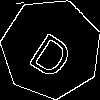D: (26, 23, 81, 81)
